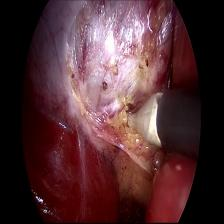Hook: (115, 90, 166, 146)
